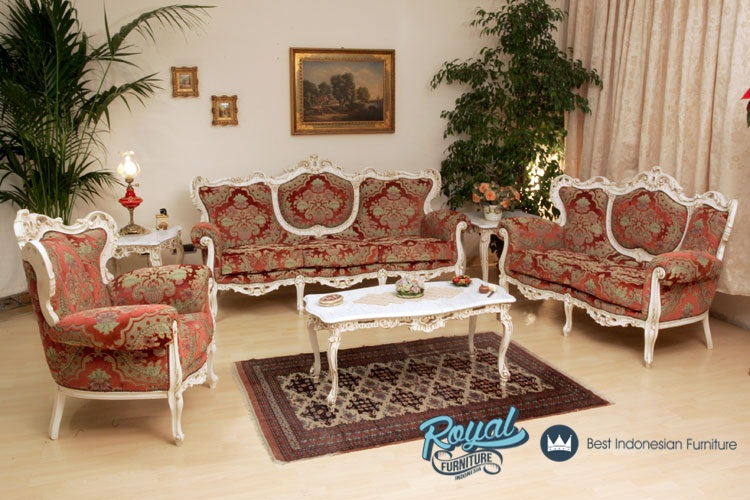Carving Chair: (31, 213, 220, 434), (181, 158, 474, 294), (499, 173, 727, 346)
Carving Table: (291, 277, 515, 399)
